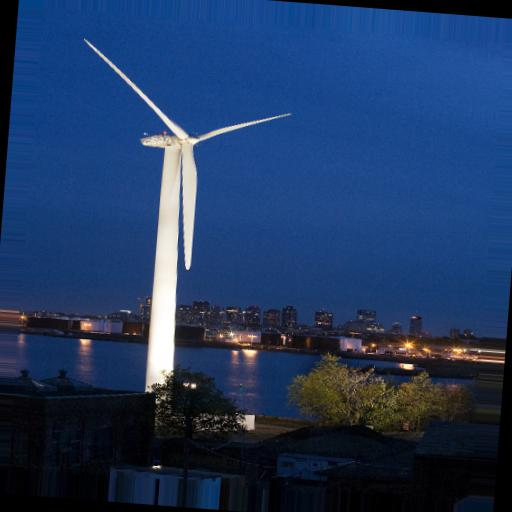wind turbine: (83, 33, 294, 368)
